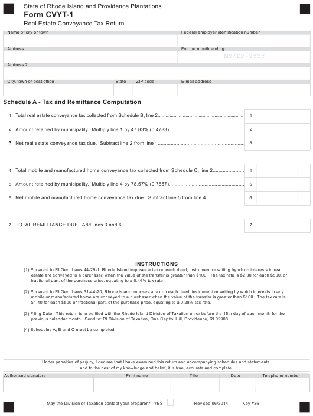textbox: (1, 61, 311, 79), (2, 30, 179, 49), (2, 47, 180, 64), (175, 77, 312, 98), (176, 47, 312, 66), (175, 29, 311, 47), (1, 76, 115, 97), (2, 372, 95, 394), (92, 372, 173, 395), (252, 372, 311, 394), (168, 371, 221, 394), (130, 77, 178, 98), (216, 372, 256, 394), (255, 190, 300, 209), (255, 215, 300, 234), (256, 106, 300, 125), (256, 161, 300, 180), (255, 134, 300, 152), (256, 121, 300, 139), (255, 176, 299, 194), (112, 77, 134, 97), (297, 217, 313, 234), (297, 121, 312, 138), (297, 135, 312, 152), (296, 162, 311, 179), (297, 176, 312, 193), (297, 190, 312, 207), (297, 108, 311, 125)
